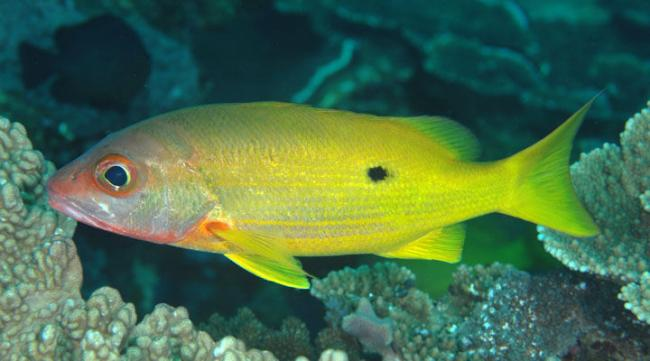fish: (46, 87, 602, 290)
